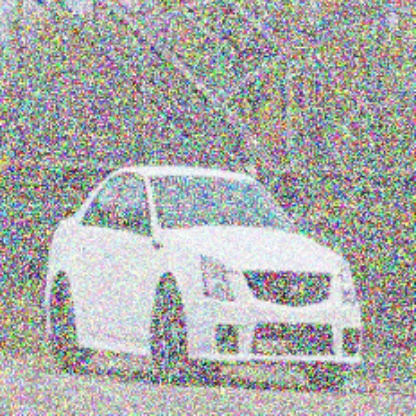Vehicle: (44, 167, 362, 390)
